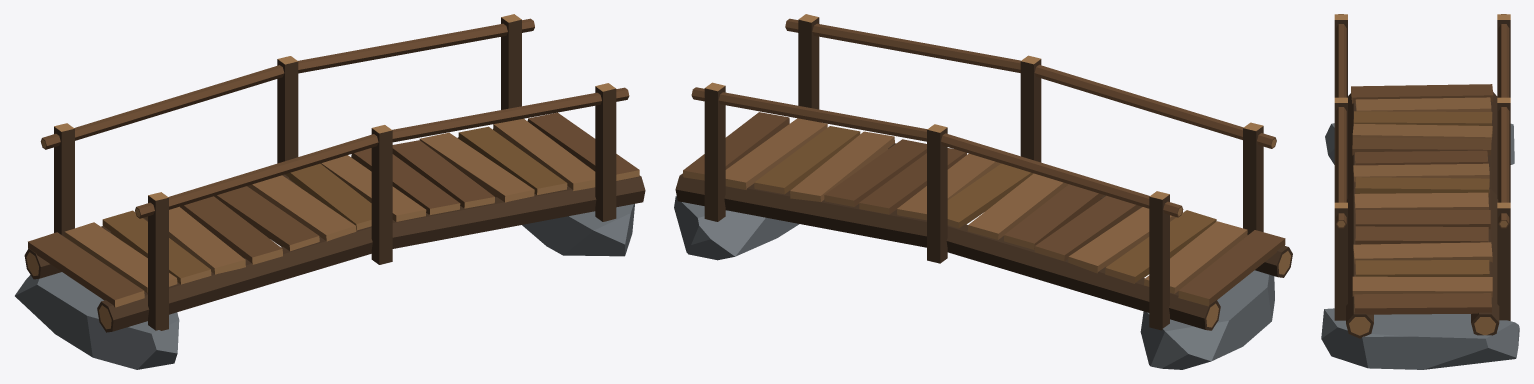
Rendered from mdvl_nature_bridge_plank_01.glb.
The picture shows the model from 3 angles, left to right: view 1: azimuth 30°, elevation 25°; view 2: azimuth 150°, elevation 25°; view 3: azimuth 270°, elevation 25°; orthographic projection. The views are drawn at different scales.
Parts seen in each view (by area): view 1: mdvl_nature_bridge_plank_01; view 2: mdvl_nature_bridge_plank_01; view 3: mdvl_nature_bridge_plank_01.
Part boxes in pixels (x1,y1,x2,y2): mdvl_nature_bridge_plank_01: (15, 14, 645, 369); mdvl_nature_bridge_plank_01: (674, 14, 1292, 369); mdvl_nature_bridge_plank_01: (1321, 14, 1519, 369).
Size of the model in its own units: 4.54 by 1.43 by 1.65.
1 material, 1 textured.
